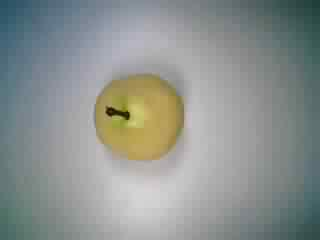pear: (82, 65, 192, 171)
